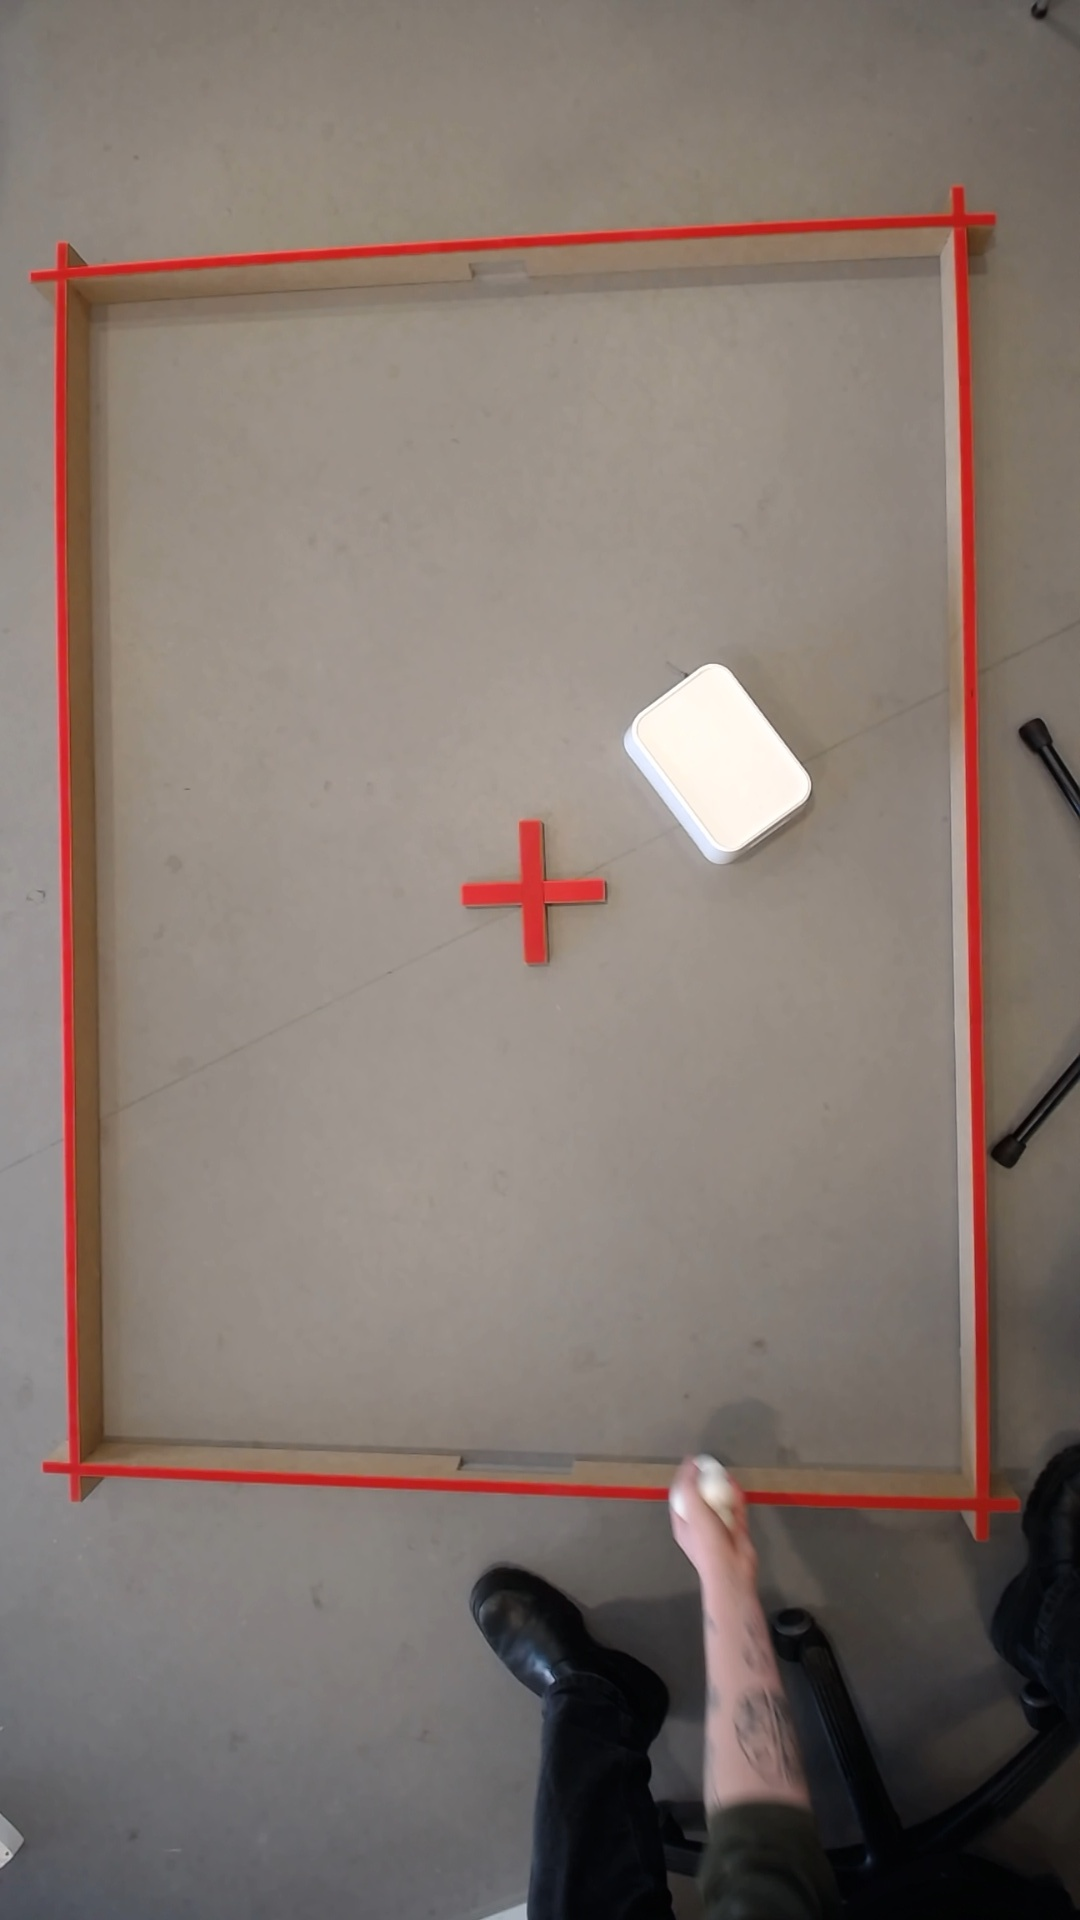balls: (611, 653, 819, 869), (658, 1484, 740, 1626), (707, 1714, 733, 1795), (690, 1456, 729, 1507)
car: (705, 1629, 727, 1691)
